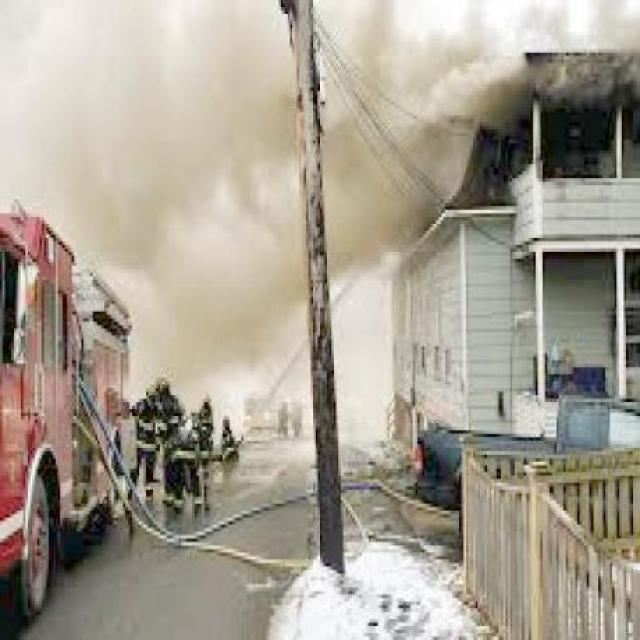Smoke: (6, 10, 280, 240), (327, 18, 478, 256), (156, 260, 289, 386), (506, 11, 636, 100)
